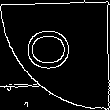O_E: (28, 32, 82, 78)
